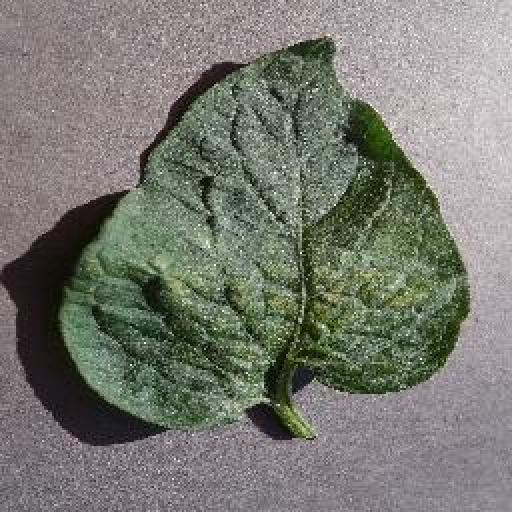Spider Mites: (59, 38, 472, 434)
